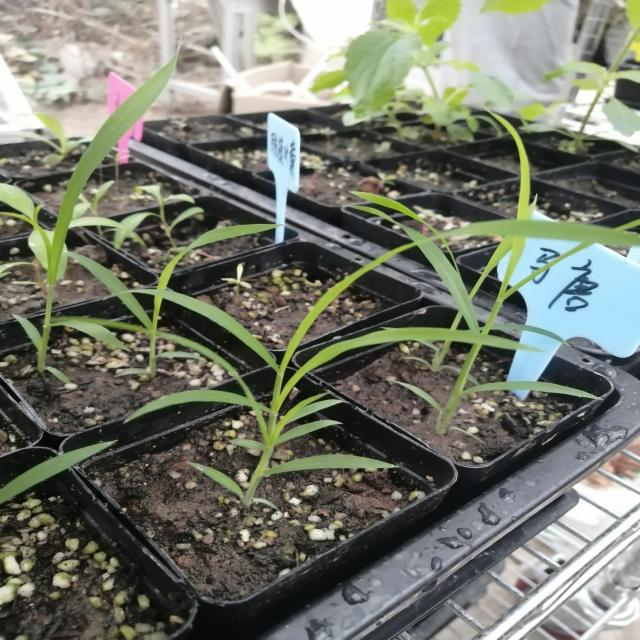crabgrass: (166, 218, 554, 515)
